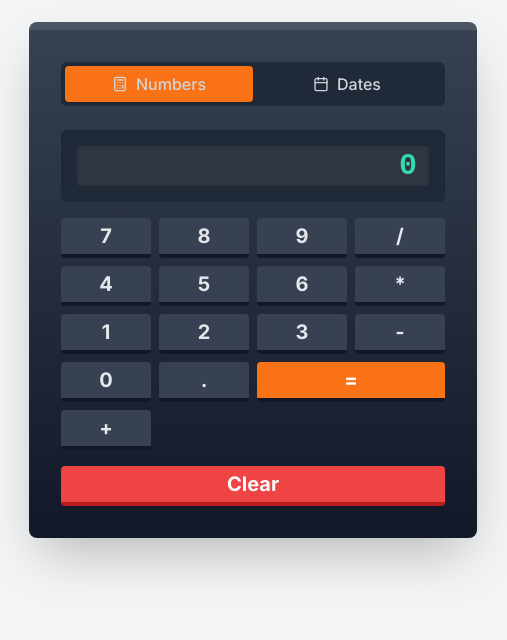
Test: Dates Calculator › should be able to select dates from previous and next months
Click the tab with test id "dates-tab" at (347, 84), box [253,66,441,102]
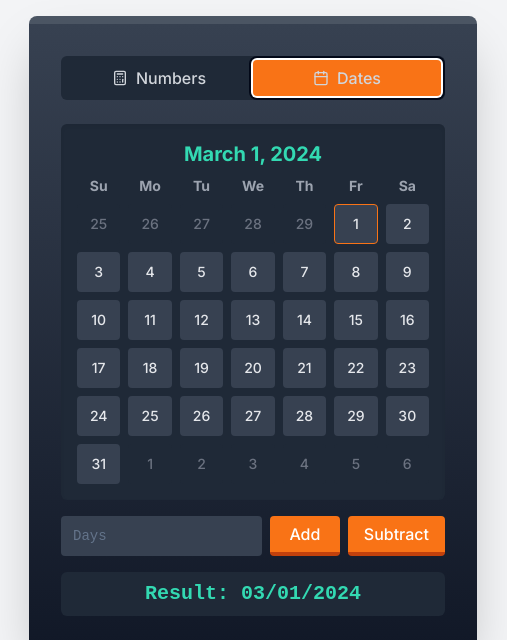
Expected: the button with test id "date-February 29" is shown
Click the button with test id "date-February 29" at (305, 224), box [283,204,326,244]
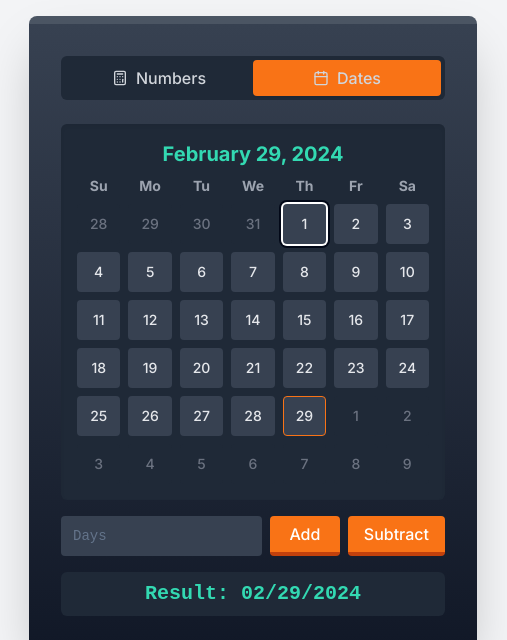
Expected: the button with test id "date-March 9" is shown
Expected: the text "February 29, 2024" is shown, [163,142,343,166]
Click the button with test id "date-March 9" at (408, 464), box [386,444,429,484]
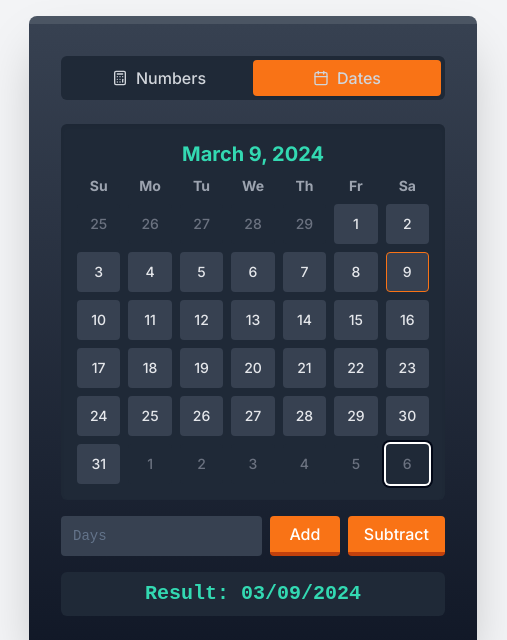
Expected: the button with test id "date-April 6" is shown
Click the button with test id "date-April 6" at (408, 464), box [386,444,429,484]
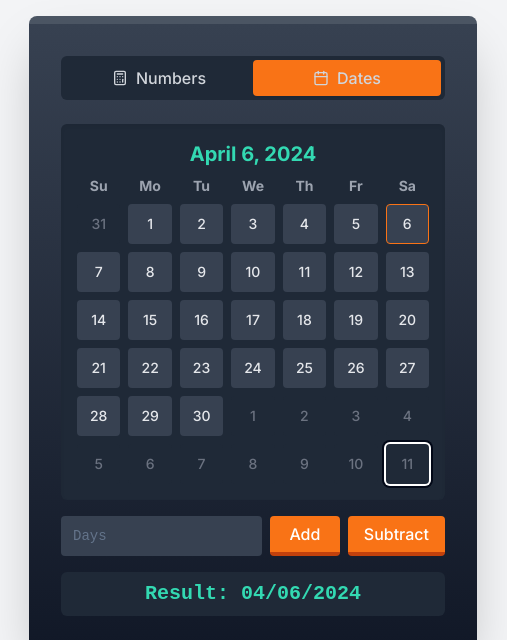
Expected: the text "April 6, 2024" is shown, [190,142,316,166]
